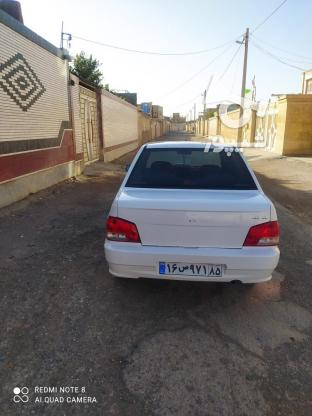car: (155, 263, 226, 276)
